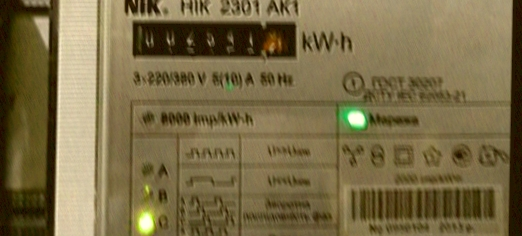0: (144, 27, 157, 48), (165, 25, 177, 46)
1: (246, 25, 257, 48)
2: (185, 24, 199, 47)
4: (226, 24, 237, 45)
5: (205, 25, 218, 48)
6: (268, 41, 279, 53)
screen: (121, 10, 311, 68)
